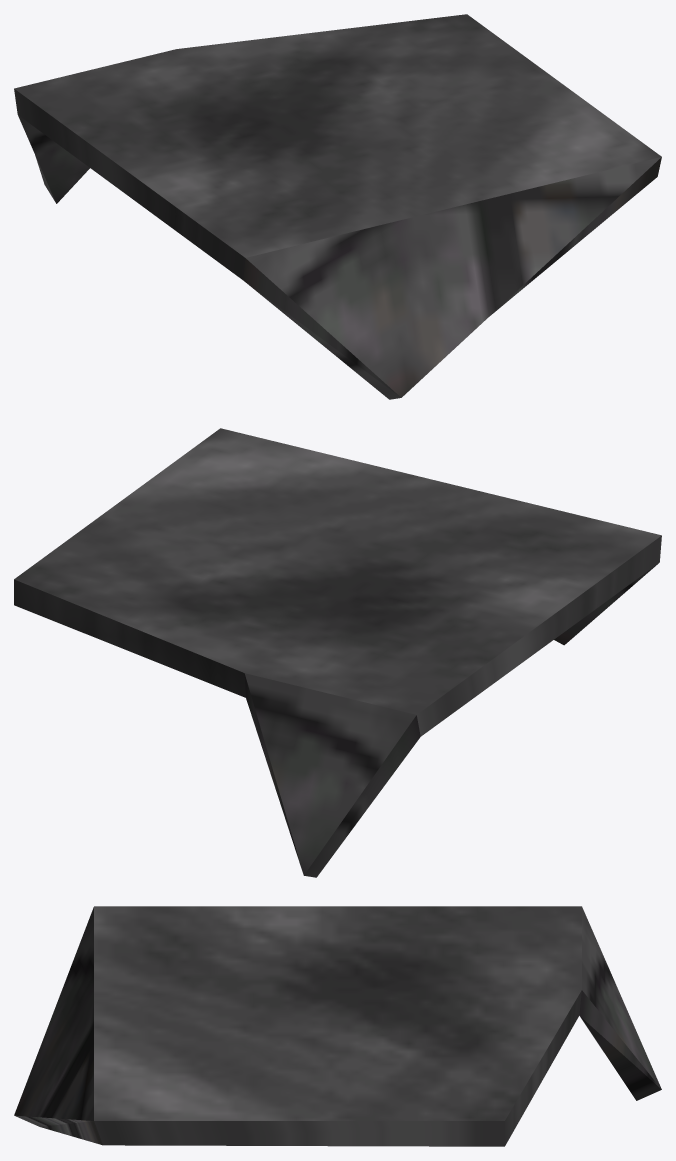
File: Shared - Ground Vehicles - CV Generic x 12 - CVGeneric_x12.glb
3 renders of one model, top to bottom at view 1: azimuth 30°, elevation 25°; view 2: azimuth 150°, elevation 25°; view 3: azimuth 270°, elevation 25°, orthographic. The views are drawn at different scales.
Visible parts, largest first — view 1: CVGENERIC_X12; view 2: CVGENERIC_X12; view 3: CVGENERIC_X12.
Boxes of the visible parts, x1,y1,x2,y2 form: CVGENERIC_X12: (14,14,661,399); CVGENERIC_X12: (14,428,661,877); CVGENERIC_X12: (14,906,661,1146).
Bounding box in the file's own units: 5.77 × 2.01 × 7.37.
1 material, 1 textured.
